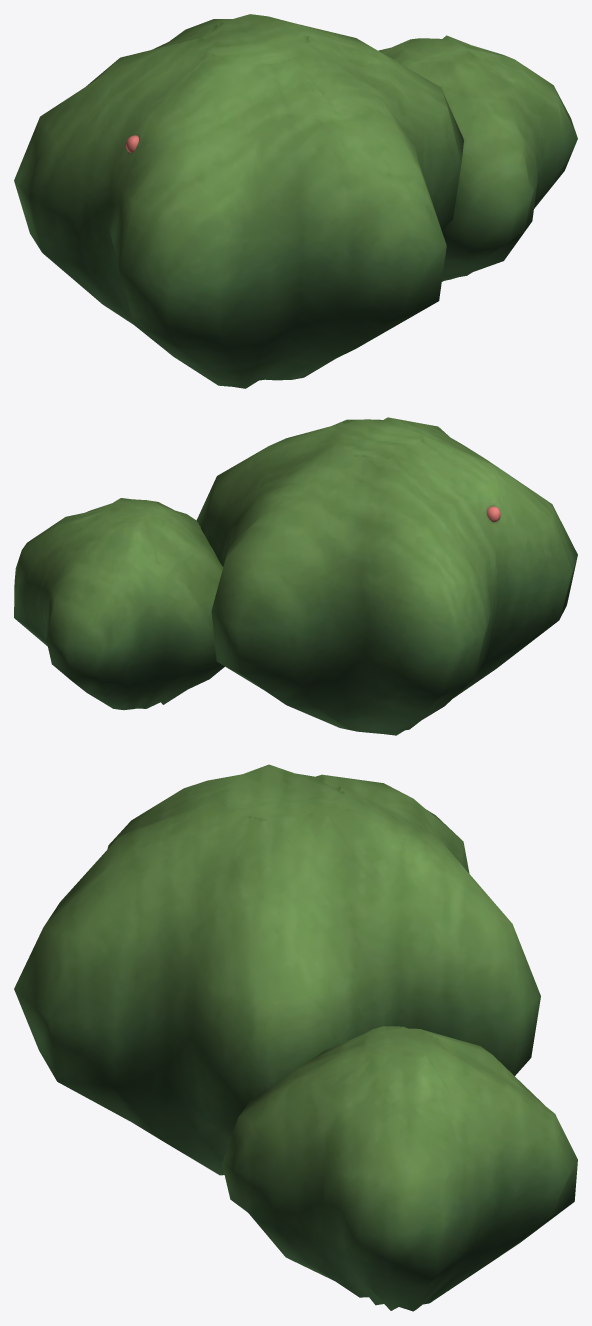
The model's file is bush.glb.
3 views of the same model, one above another, from view 1: azimuth 30°, elevation 25°; view 2: azimuth 150°, elevation 25°; view 3: azimuth 270°, elevation 25° (orthographic). The views are drawn at different scales.
Visible parts, largest first — view 1: Bush; view 2: Bush; view 3: Bush.
Boxes of the visible parts, x1,y1,x2,y2 form: Bush: [14, 14, 577, 388]; Bush: [14, 417, 577, 735]; Bush: [14, 764, 577, 1311].
Size of the model in its own units: 1.62 by 0.9305 by 1.26.
1 material, 1 textured.
